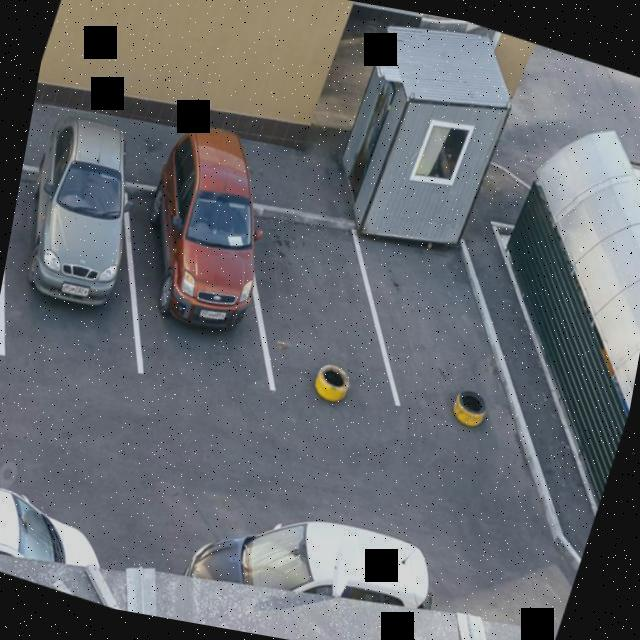car: (0, 115, 168, 377), (115, 148, 298, 377), (230, 216, 418, 427), (362, 234, 528, 436)
free: (0, 149, 36, 360)
